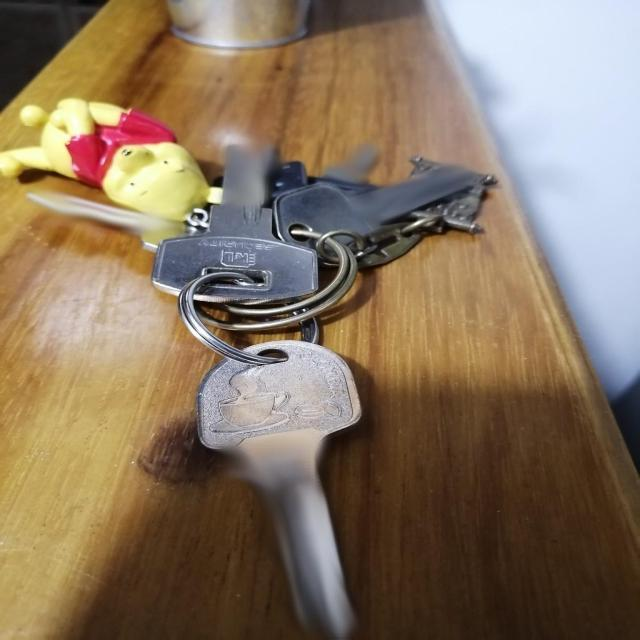Frontdoor keys: (184, 338, 380, 639), (274, 153, 500, 284), (144, 143, 305, 301)
